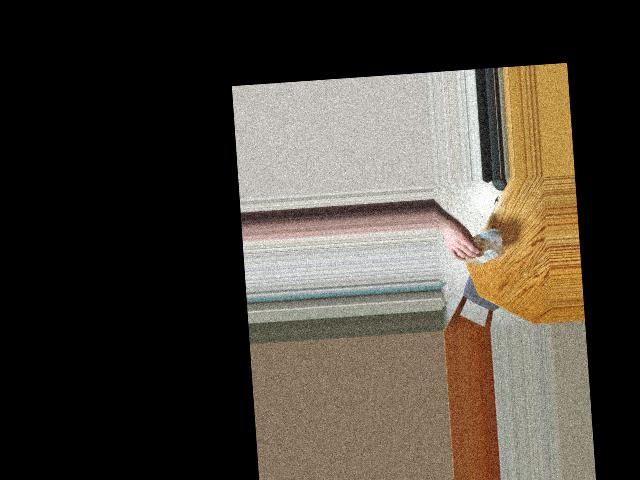cheese: (461, 230, 502, 266)
